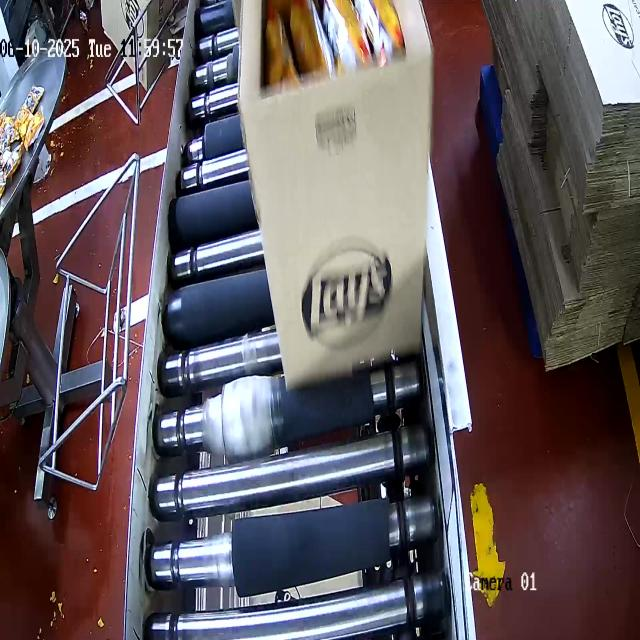FRENCH_CHEESE: (267, 0, 407, 94)
